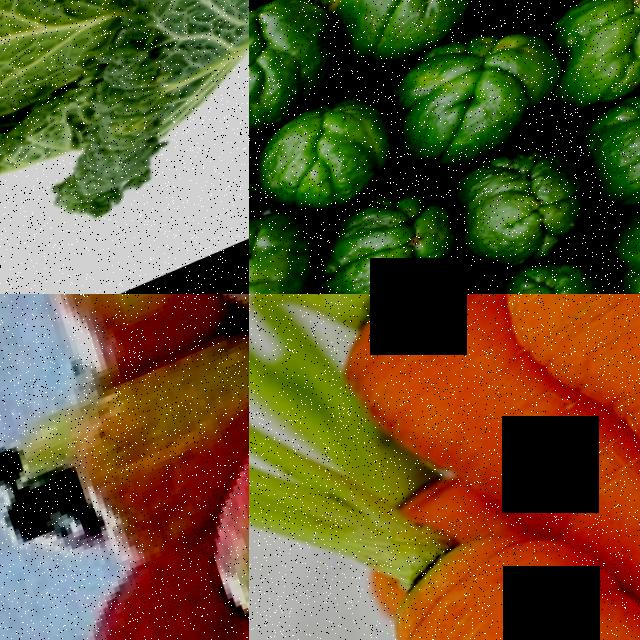cabbage: (0, 0, 249, 294)
carrot: (308, 294, 531, 500), (366, 515, 594, 640), (485, 294, 640, 397)
cashew: (0, 459, 116, 574)
chayote: (360, 12, 572, 179), (440, 110, 611, 280), (249, 85, 405, 221), (311, 174, 472, 294), (544, 63, 640, 245), (515, 0, 640, 138), (300, 0, 480, 88), (249, 6, 338, 140), (249, 184, 357, 294), (561, 178, 640, 294), (507, 247, 633, 294), (467, 0, 620, 37)
